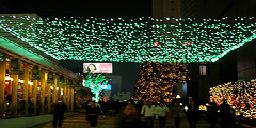LED: (19, 18, 232, 62), (140, 63, 180, 99), (210, 82, 256, 97)
